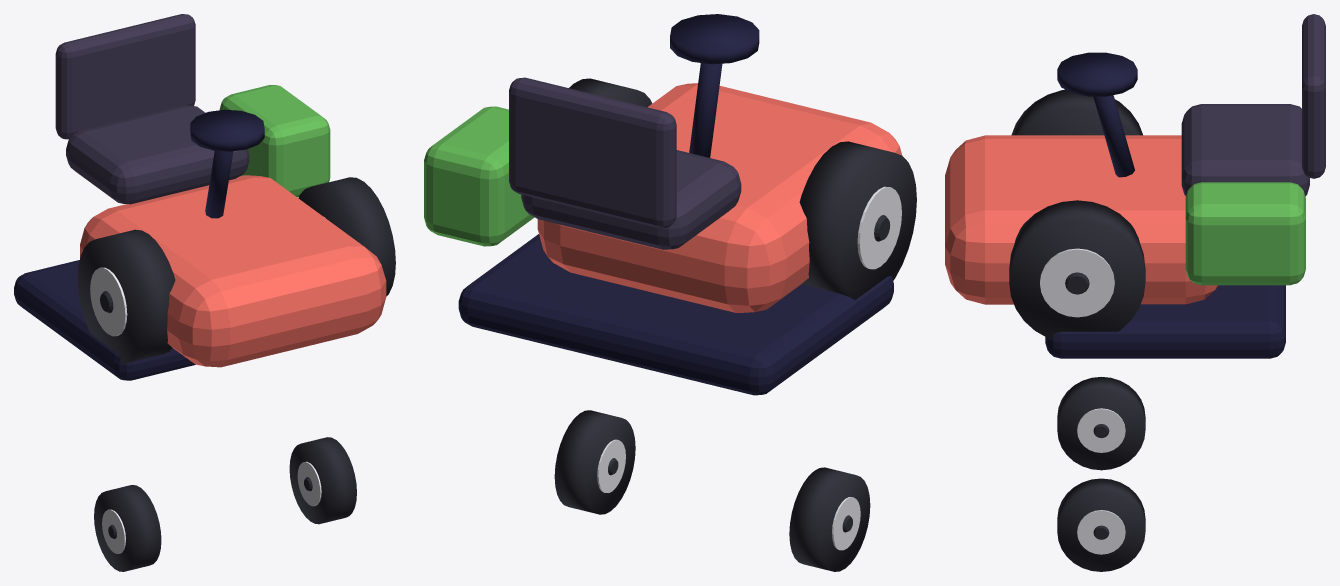
File: Car_Mower.fbx
The picture shows the model from 3 angles, left to right: view 1: azimuth 30°, elevation 25°; view 2: azimuth 150°, elevation 25°; view 3: azimuth 270°, elevation 25°; orthographic projection. The views are drawn at different scales.
Parts seen in each view (by area): view 1: Car_Mower, Wheel_RL, Wheel_FR, Wheel_FL, Wheel_RR; view 2: Car_Mower, Wheel_RL, Wheel_FL, Wheel_FR, Wheel_RR; view 3: Car_Mower, Wheel_RR, Wheel_FL, Wheel_FR, Wheel_RL.
Part boxes in pixels (x1,y1,x2,y2): Car_Mower: (14, 14, 386, 380); Wheel_RL: (77, 229, 175, 363); Wheel_FR: (289, 437, 356, 524); Wheel_FL: (94, 485, 161, 571); Wheel_RR: (298, 177, 395, 296); Car_Mower: (424, 14, 902, 395); Wheel_RL: (799, 141, 916, 299); Wheel_FL: (789, 467, 870, 571); Wheel_FR: (554, 410, 635, 514); Wheel_RR: (569, 78, 652, 107); Car_Mower: (945, 14, 1325, 358); Wheel_RR: (1009, 200, 1145, 339); Wheel_FL: (1057, 377, 1145, 470); Wheel_FR: (1057, 478, 1145, 571); Wheel_RL: (1011, 89, 1142, 135).
Bounding box in the file's own units: 0.8656 × 1.29 × 0.95.
